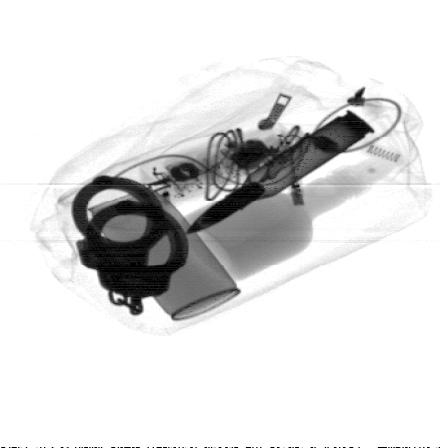Bullet: (184, 108, 375, 235)
HandCuffs: (72, 175, 192, 320)
